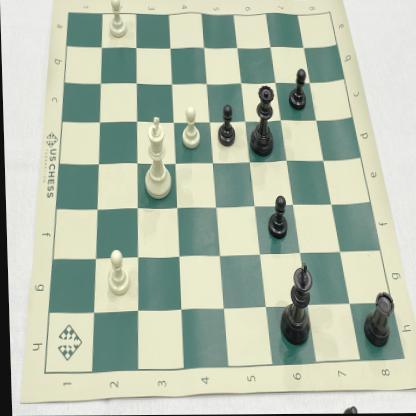black-king: (274, 259, 314, 352)
black-pawn: (261, 190, 290, 245), (284, 64, 310, 115), (213, 103, 238, 152)
black-queen: (244, 82, 277, 163)
black-rook: (356, 287, 395, 352)
white-king: (137, 115, 175, 202)
white-pawn: (100, 246, 131, 297), (176, 102, 202, 152), (103, 0, 131, 41)
